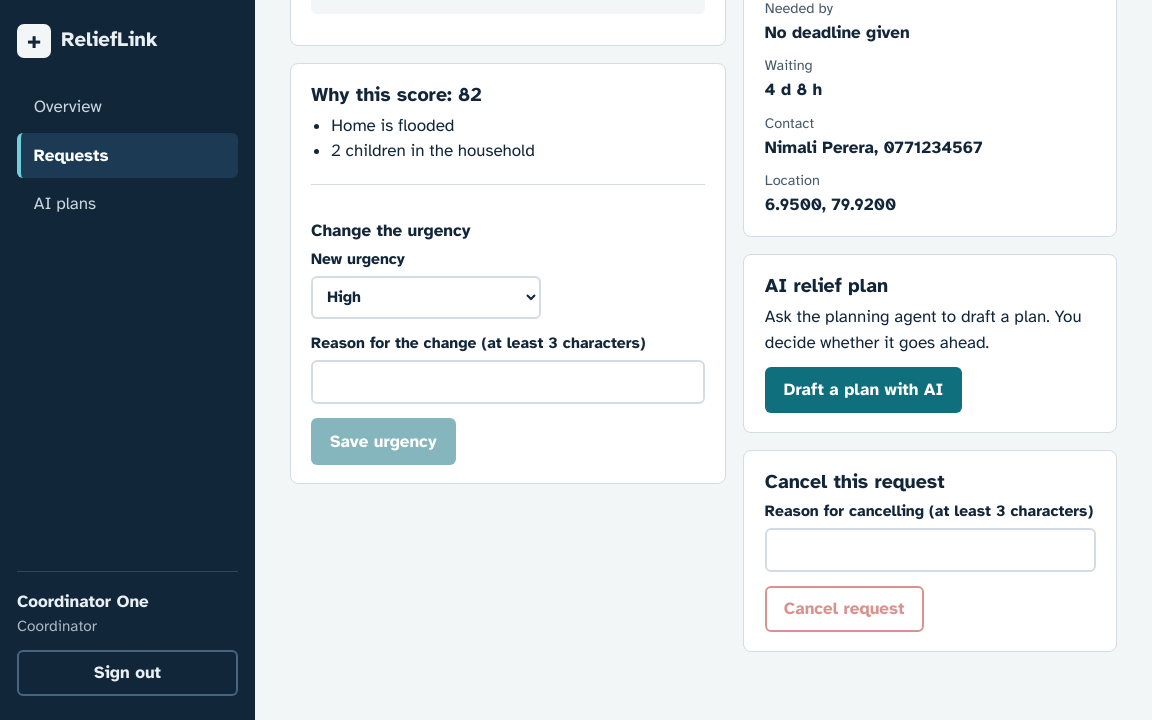
Test: Request detail › offers an AI plan only for a submitted request and opens the new workflow
The image size is (1152, 720).
(page scrolled)
Click the button "Draft a plan with AI" at (864, 390), box [765, 367, 962, 413]
(page scrolled)
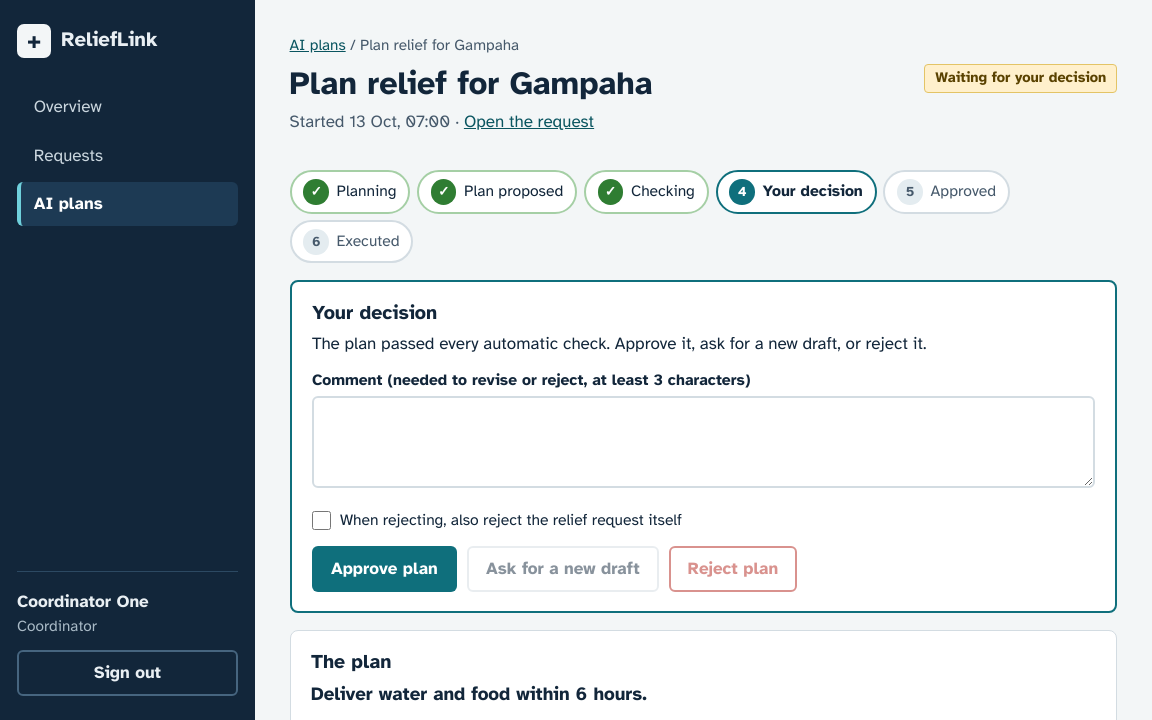
expect the heading "Plan relief for Gampaha" is shown: met, box [290, 64, 653, 102]
